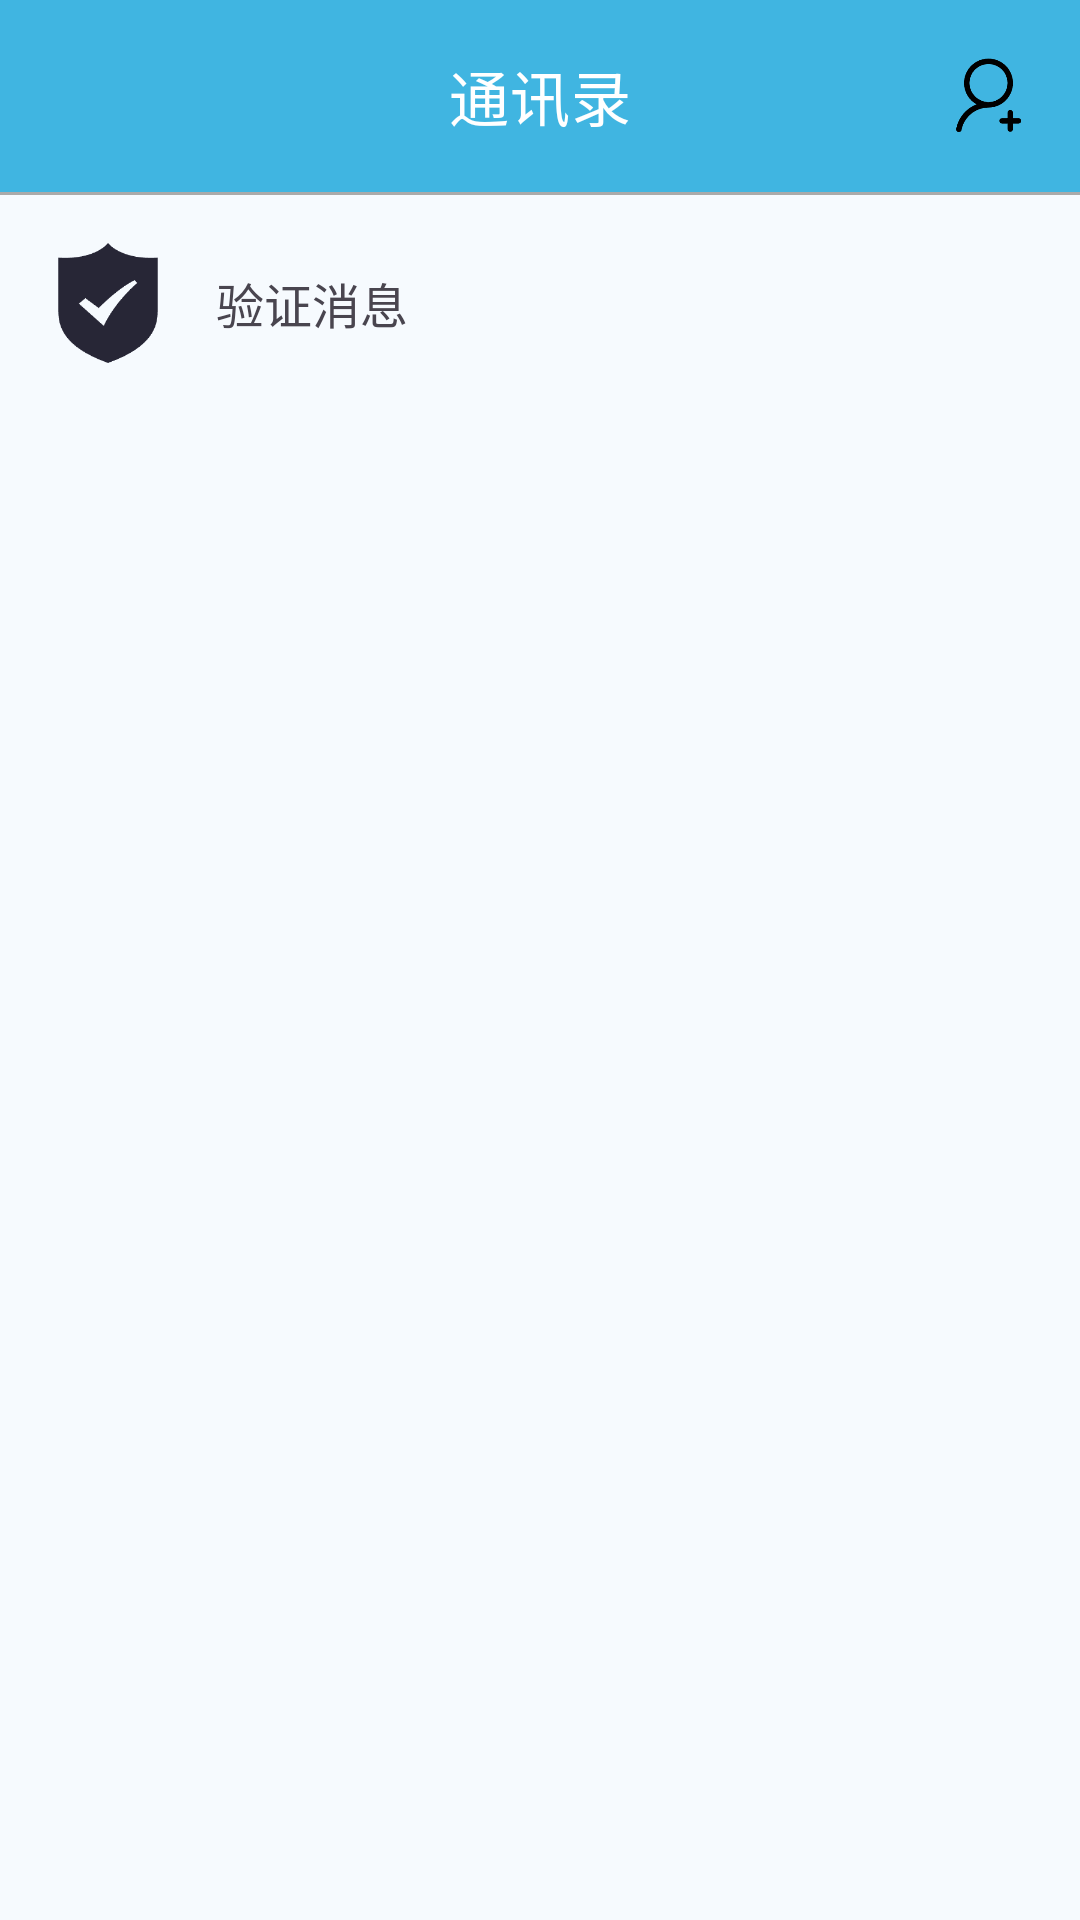

Point at icon controls on the screen. Image size 1080×1920, points as point (x, y).
verification: point (108, 303)
添加朋友: point (988, 95)
